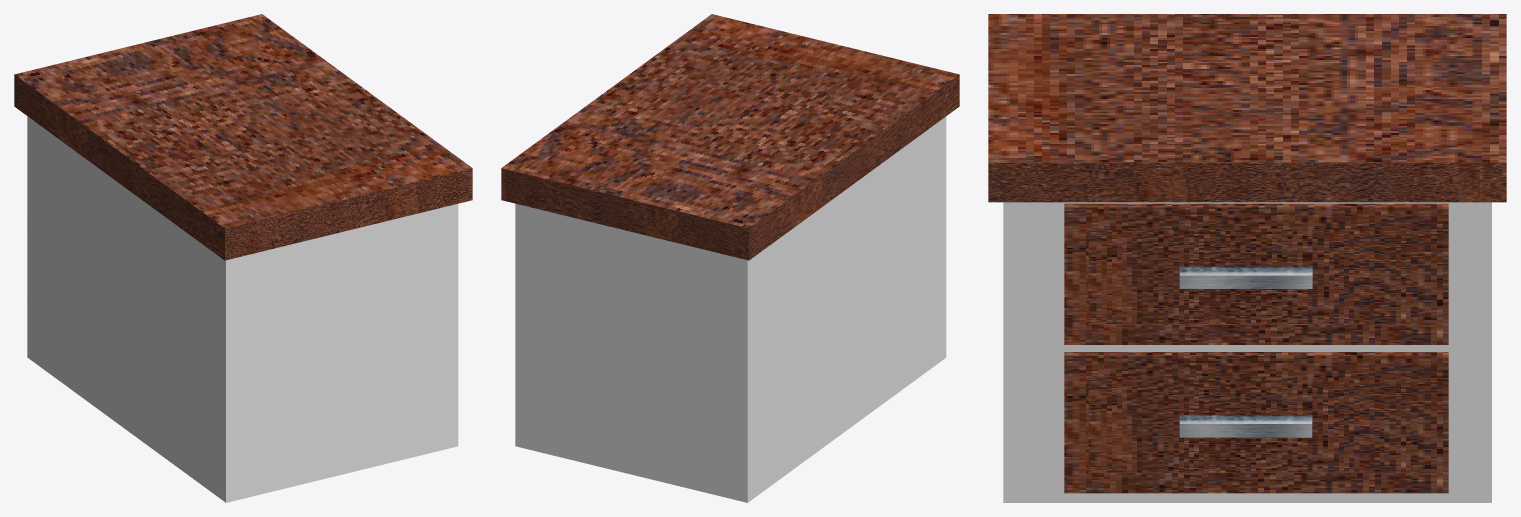
File: basic_wood_nightstand.glb
The picture shows the model from 3 angles, left to right: view 1: azimuth 30°, elevation 25°; view 2: azimuth 150°, elevation 25°; view 3: azimuth 270°, elevation 25°; orthographic projection. The views are drawn at different scales.
Visible parts, largest first — view 1: Body-col, Top; view 2: Body-col, Top; view 3: Top, Body-col, Inner Drawer, Inner Drawer.001, Drawer, Drawer.001, Handle, Handle.001.
Part boxes in pixels (bbox=[...]): Body-col: bbox=[27, 116, 458, 502]; Top: bbox=[14, 14, 472, 260]; Body-col: bbox=[515, 116, 946, 502]; Top: bbox=[501, 14, 959, 260]; Top: bbox=[988, 14, 1506, 202]; Body-col: bbox=[1003, 202, 1491, 502]; Inner Drawer: bbox=[1088, 377, 1410, 472]; Inner Drawer.001: bbox=[1088, 229, 1410, 323]; Drawer: bbox=[1064, 352, 1448, 493]; Drawer.001: bbox=[1064, 203, 1448, 344]; Handle: bbox=[1179, 415, 1312, 437]; Handle.001: bbox=[1179, 266, 1312, 288].
Size of the model in its own units: 2.64 by 2.73 by 3.71.
3 materials, 2 textured.
